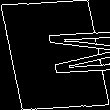M_W: (1, 30, 109, 80)
